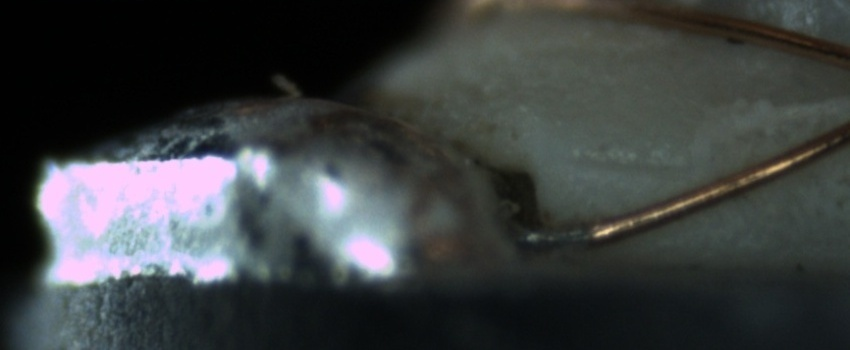DL: (563, 134, 699, 195)
TS: (523, 223, 585, 249)
